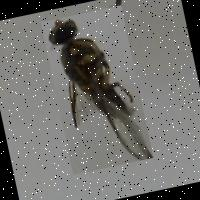Oriental-fruit-fly: (40, 4, 153, 174)
